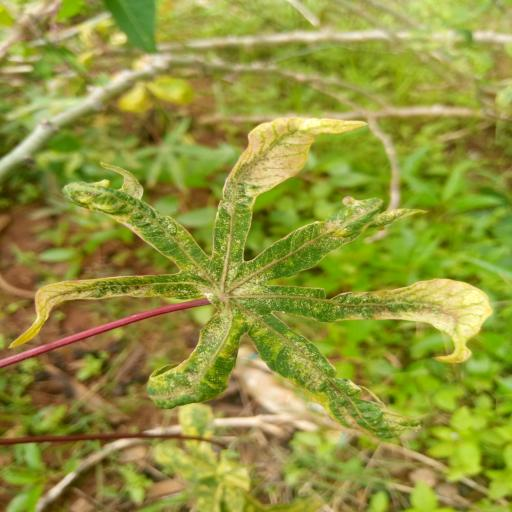Cassava_Mosaic: (5, 117, 493, 441)
